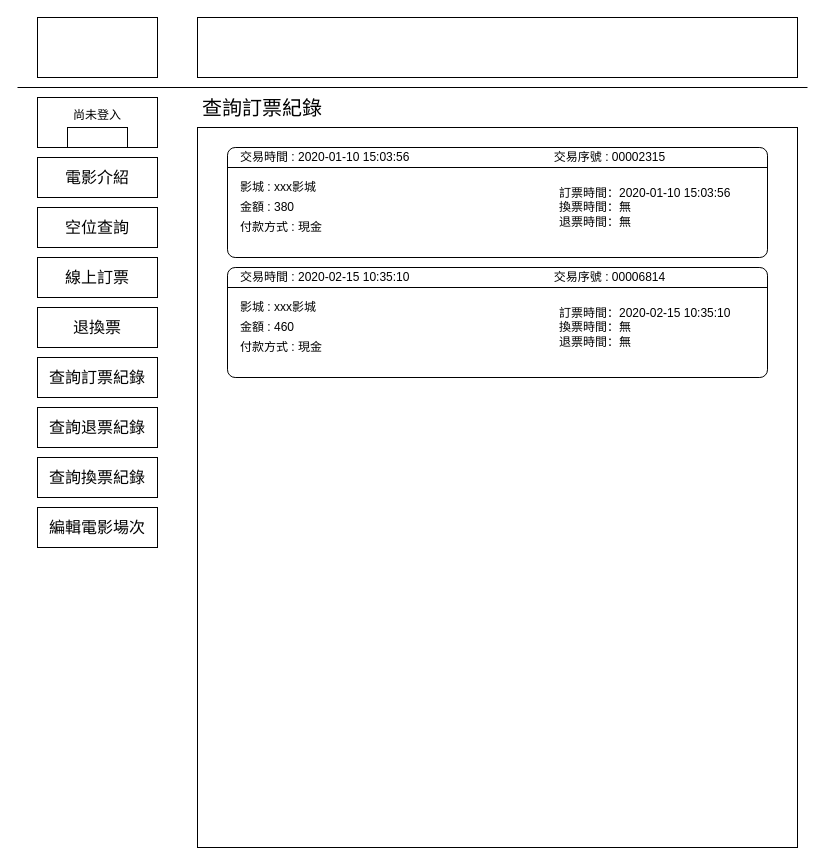
Image size: 826x865. Some labels were removed from this diagram. The shapes that lost their labels are listed below. From the top down, each one's centre as x and y in pixels, then its label:
At (97,47): "電影院 訂票系統".
At (497,47): "影城名稱".
At (97,137): "登入/註冊".
